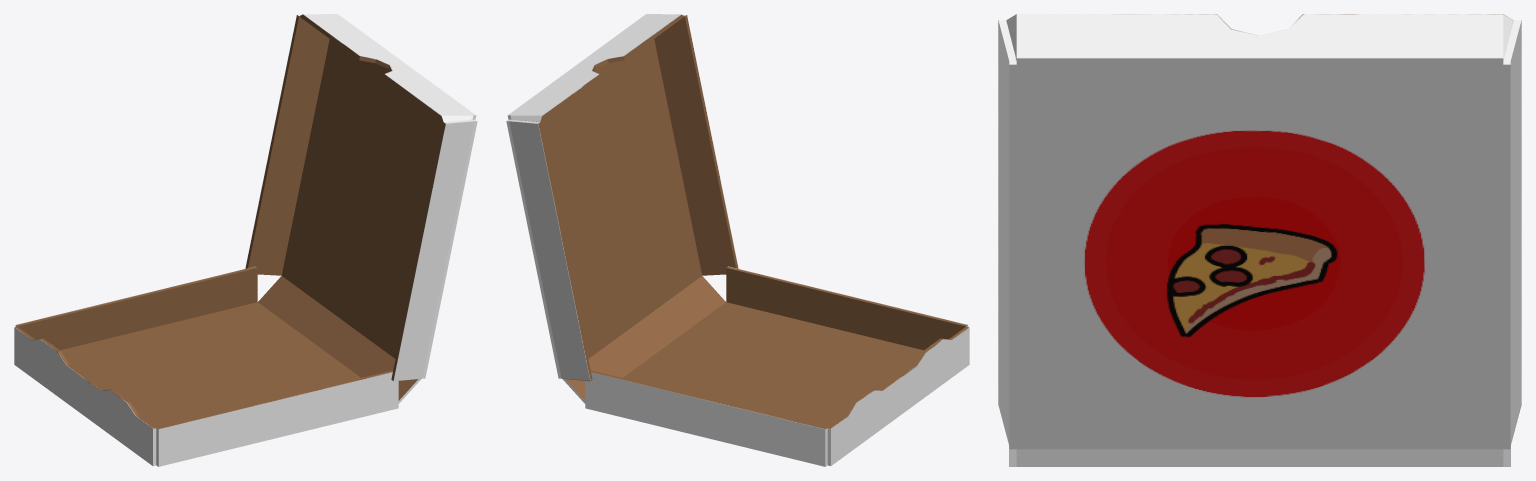
File: pizzakartong1.fbx
3 renders of one model, left to right at view 1: azimuth 30°, elevation 25°; view 2: azimuth 150°, elevation 25°; view 3: azimuth 270°, elevation 25°, orthographic. The views are drawn at different scales.
Parts seen in each view (by area): view 1: Cube; view 2: Cube; view 3: Cube.
Boxes of the visible parts, box(x1,y1,x2,y2) form: Cube: box(14, 14, 477, 466); Cube: box(506, 14, 969, 466); Cube: box(998, 14, 1521, 466).
Size of the model in its own units: 269 by 223 by 215.
Materials: 1 (1 with a texture image).
